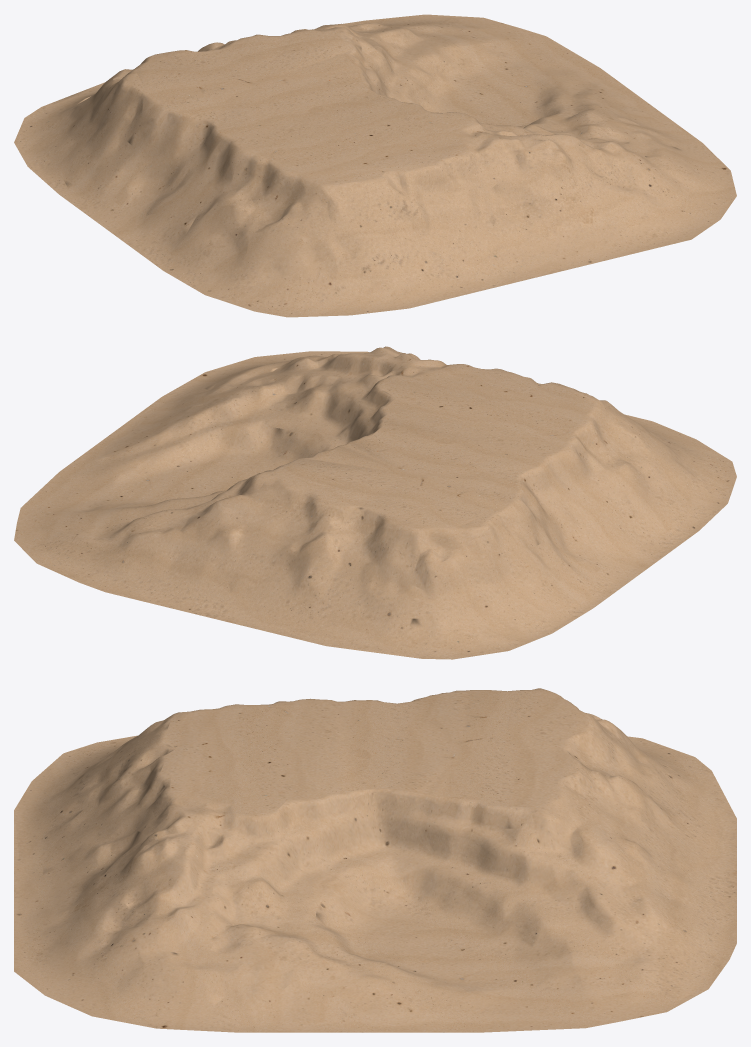
Rendered from Island.glb.
The picture shows the model from 3 angles, top to bottom: view 1: azimuth 30°, elevation 25°; view 2: azimuth 150°, elevation 25°; view 3: azimuth 270°, elevation 25°; orthographic projection. The views are drawn at different scales.
Visible parts, largest first — view 1: Landscape; view 2: Landscape; view 3: Landscape.
Part boxes in pixels (x1,y1,x2,y2): Landscape: [14, 14, 736, 317]; Landscape: [14, 346, 736, 659]; Landscape: [14, 688, 736, 1032].
Size of the model in its own units: 22.65 by 3.06 by 22.65.
1 material, 1 textured.
